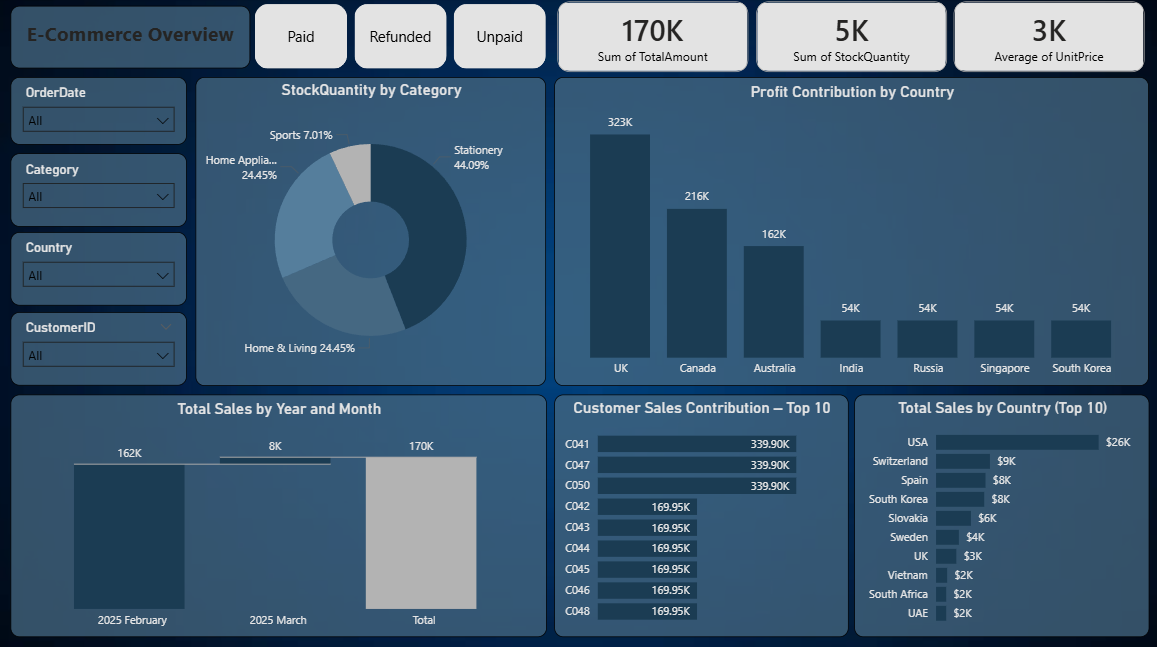

The page's visual inventory and layout, read from the dashboard file:
{"tool":"powerbi","page":{"name":"Overview","canvas":[1280,720],"ordinal":0},"visuals":[{"type":"textbox","box":[19.2,9.6,263.5,68.6],"z":0},{"type":"barChart","title":"Customer Sales Contribution – Top 10","fields":{"Category":["Customer.CustomerID"],"Y":["Sum(Order.Total Amount)"]},"box":[616,436.4,323,266],"z":1000},{"type":"columnChart","title":"Profit Contribution by Country","fields":{"Y":["Sum(Order Items.Profit)"],"Category":["Manufacturer.Country"]},"box":[616.1,87.8,653.2,338.9],"z":2000},{"type":"donutChart","title":"StockQuantity by Category","fields":{"Category":["Product.Category"],"Y":["Sum(Inventory.StockQuantity)"]},"box":[222.3,87.8,385,338.9],"z":3000},{"type":"cardVisual","fields":{"Data":["Sum(Order.TotalAmount)"]},"box":[614.8,0,219.6,87.8],"z":4000},{"type":"cardVisual","fields":{"Data":["Sum(Inventory.StockQuantity)"]},"box":[832.9,0,219.6,87.8],"z":5000},{"type":"cardVisual","fields":{"Data":["Avg(Order Items.UnitPrice)"]},"box":[1049.7,0,219.6,87.8],"z":6000},{"type":"slicer","fields":{"Values":["Order.OrderDate"]},"box":[19.2,87.8,193.5,74.1],"z":7000},{"type":"slicer","fields":{"Values":["Product.Category"]},"box":[19.2,171.5,193.5,81],"z":8000},{"type":"slicer","fields":{"Values":["Customer.Country"]},"box":[19.2,258,193.5,81],"z":9000},{"type":"slicer","fields":{"Values":["Customer.CustomerID"]},"box":[19.2,345.8,193.5,81],"z":10000},{"type":"advancedSlicerVisual","fields":{"Values":["Order.PaymentStatus"]},"box":[282.7,6,332.1,78],"z":11000},{"type":"barChart","title":"Total Sales by Country (Top 10)","fields":{"Category":["Order.Country"],"Y":["Sum(Order.TotalAmount)"]},"box":[945.5,436.4,323.8,266.2],"z":12000},{"type":"waterfallChart","fields":{"Category":["Order.OrderDate.Variation.Date Hierarchy.Year","Order.OrderDate.Variation.Date Hierarchy.Month"],"Y":["Order.Total Sales"]},"box":[19.2,436.4,588.7,266.2],"z":13000}]}

Visuals, with their boxes in screenshot pixels (x1, y1, x2, y2), scaled from the page's 1280x720 canvas onto the 1157x647 screenshot:
textbox: rect(17, 9, 256, 70)
"Customer Sales Contribution – Top 10" barChart: rect(557, 392, 849, 631)
"Profit Contribution by Country" columnChart: rect(557, 79, 1147, 383)
"StockQuantity by Category" donutChart: rect(201, 79, 549, 383)
cardVisual - Sum(Order.TotalAmount): rect(556, 0, 754, 79)
cardVisual - Sum(Inventory.StockQuantity): rect(753, 0, 951, 79)
cardVisual - Avg(Order Items.UnitPrice): rect(949, 0, 1147, 79)
slicer - Order.OrderDate: rect(17, 79, 192, 145)
slicer - Product.Category: rect(17, 154, 192, 227)
slicer - Customer.Country: rect(17, 232, 192, 305)
slicer - Customer.CustomerID: rect(17, 311, 192, 384)
advancedSlicerVisual - Order.PaymentStatus: rect(256, 5, 556, 75)
"Total Sales by Country (Top 10)" barChart: rect(855, 392, 1147, 631)
waterfallChart - Order.OrderDate.Variation.Date Hierarchy.Year x Order.OrderDate.Variation.Date Hierarchy.Month: rect(17, 392, 549, 631)
